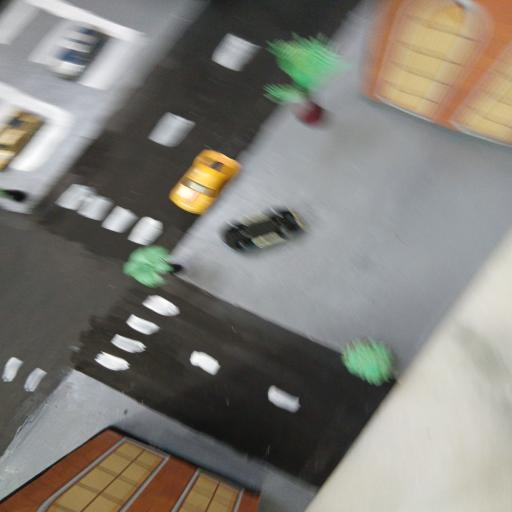car crash: (219, 204, 311, 264)
